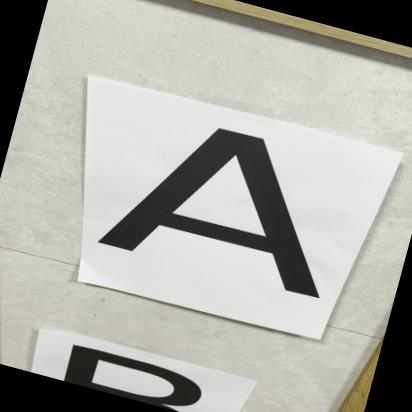seat: (69, 88, 386, 327)
